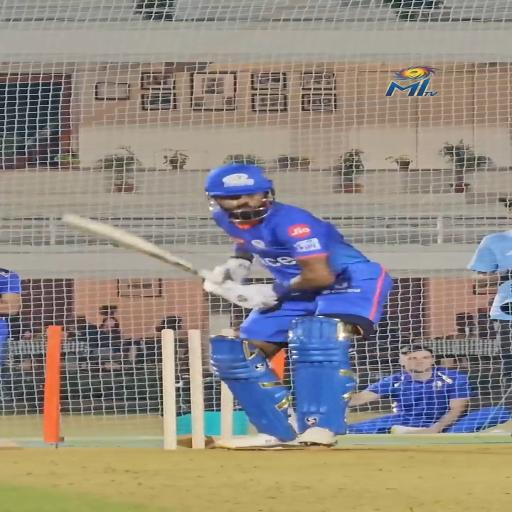Cricket bat: (61, 214, 200, 276)
